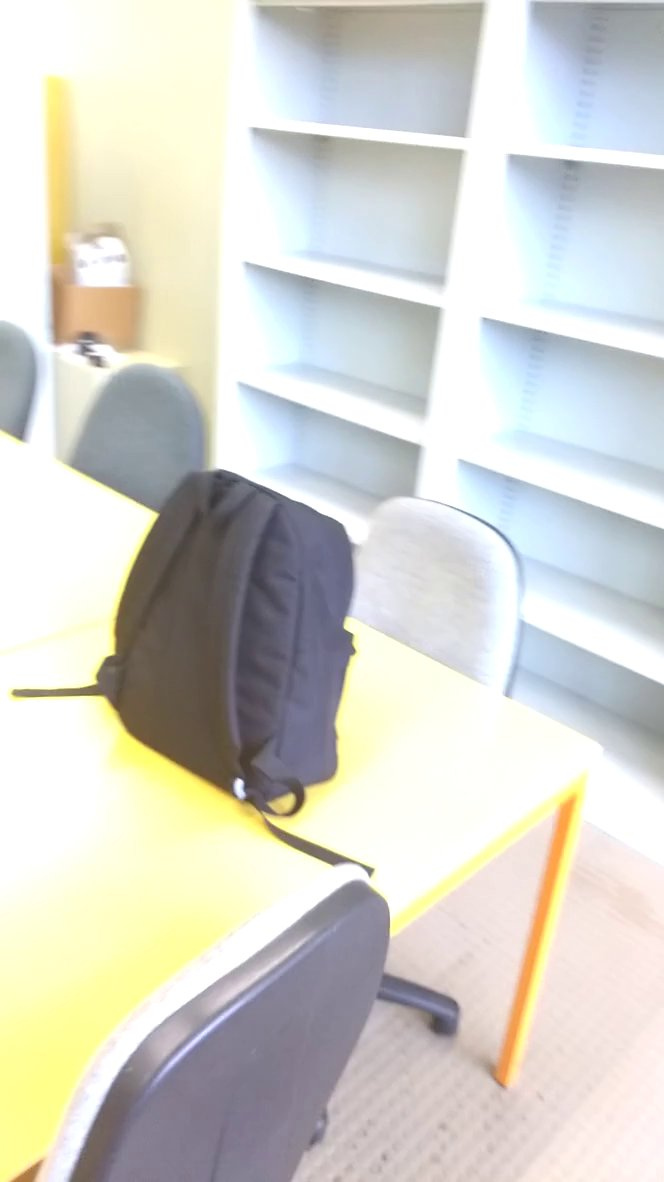bag: (99, 462, 365, 820)
chair: (29, 858, 431, 1182), (326, 489, 547, 714), (63, 348, 240, 548)
